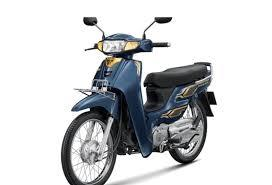motorcycle: (57, 15, 217, 185)
